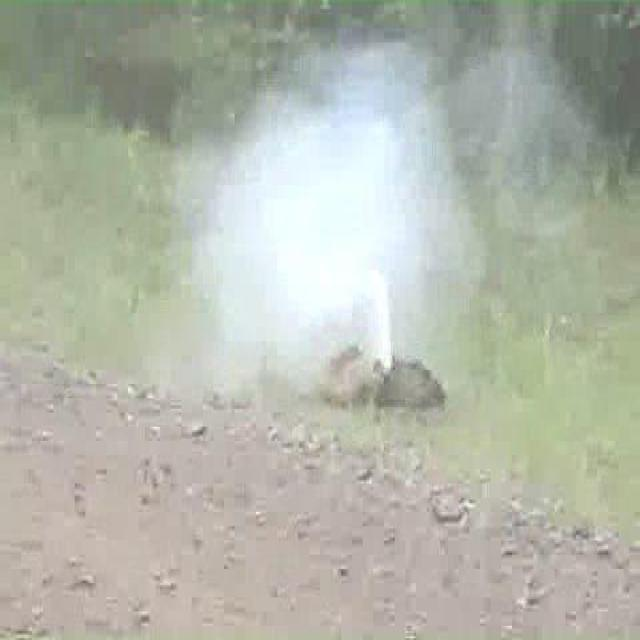Smoke: (193, 40, 488, 391)
